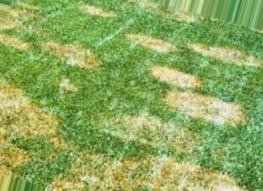patch: (76, 153, 140, 181), (125, 112, 173, 146), (170, 77, 216, 112), (12, 93, 51, 128), (154, 160, 207, 184), (135, 36, 184, 56), (69, 43, 97, 70), (206, 48, 247, 63)
